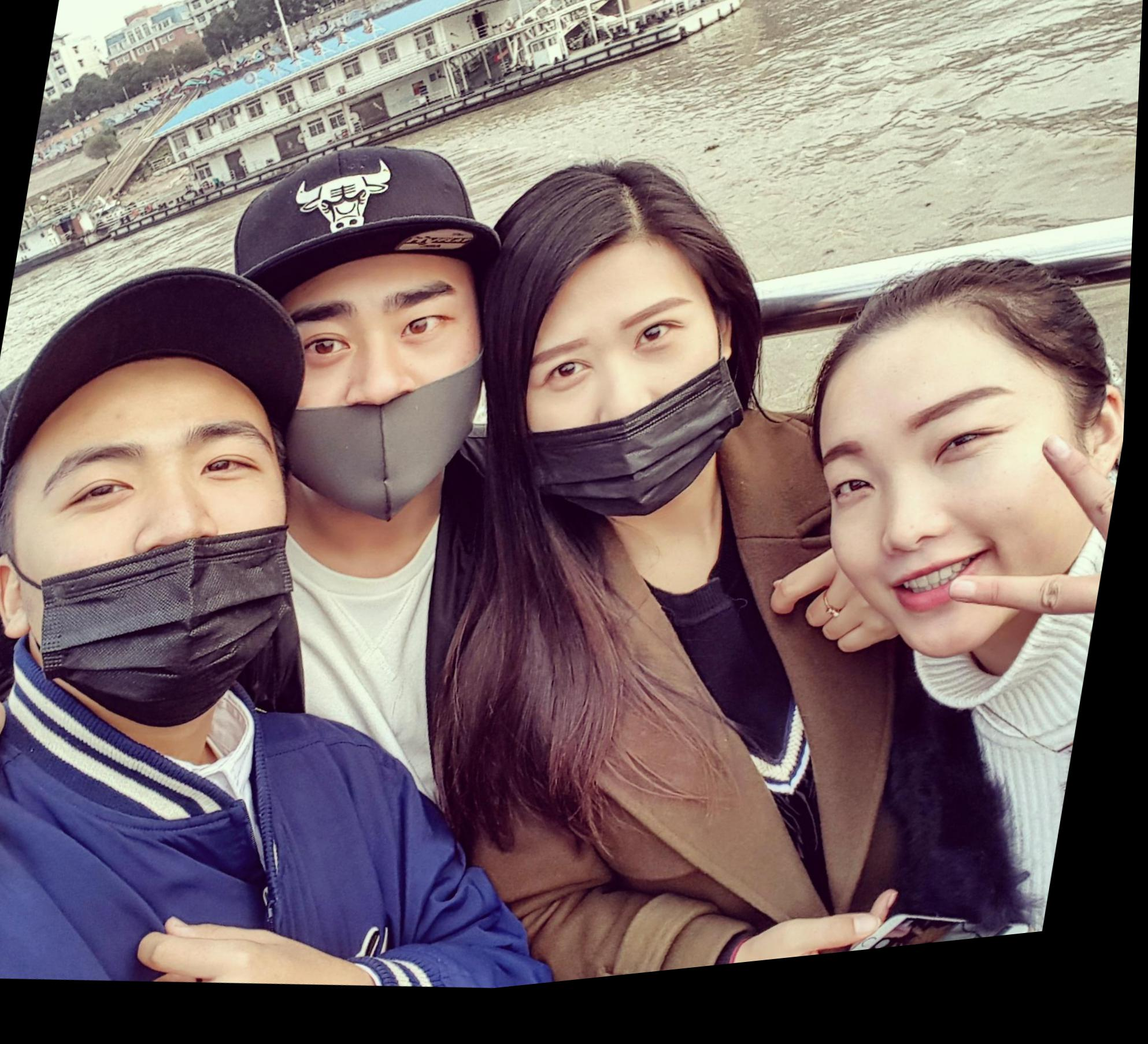NONE: (780, 370, 1071, 708)
WRONG: (1, 377, 328, 766), (220, 259, 506, 559), (495, 273, 753, 559)
